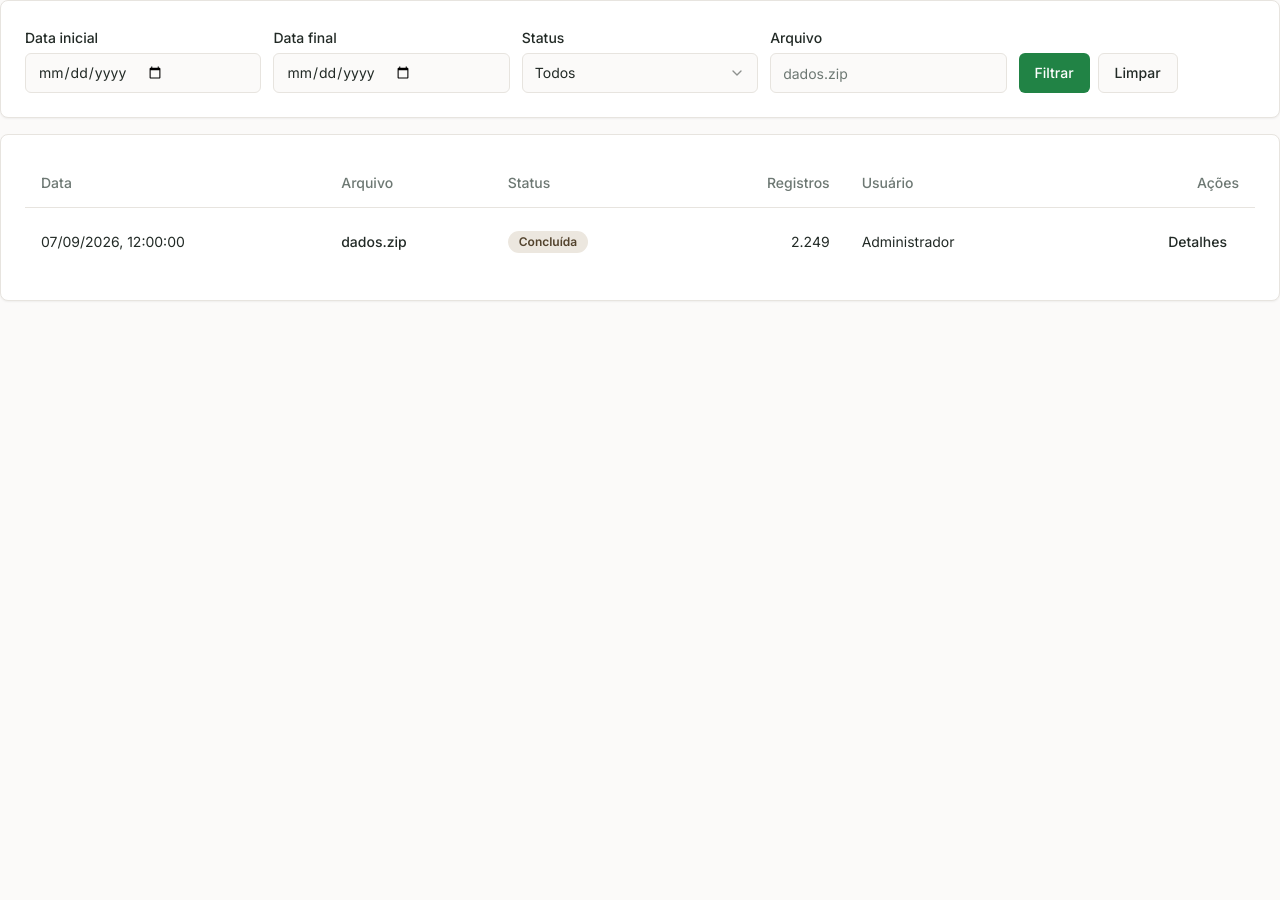
Test: LegacyImportHistory › lista importações e abre os detalhes
Expected: the text "dados.zip" is shown, x1=325 y1=207 x2=492 y2=276
Expected: the text "Administrador" is shown, x1=846 y1=207 x2=1059 y2=276
Step 1. Click the button "Detalhes" → (1198, 242), box x1=1156 y1=224 x2=1239 y2=260
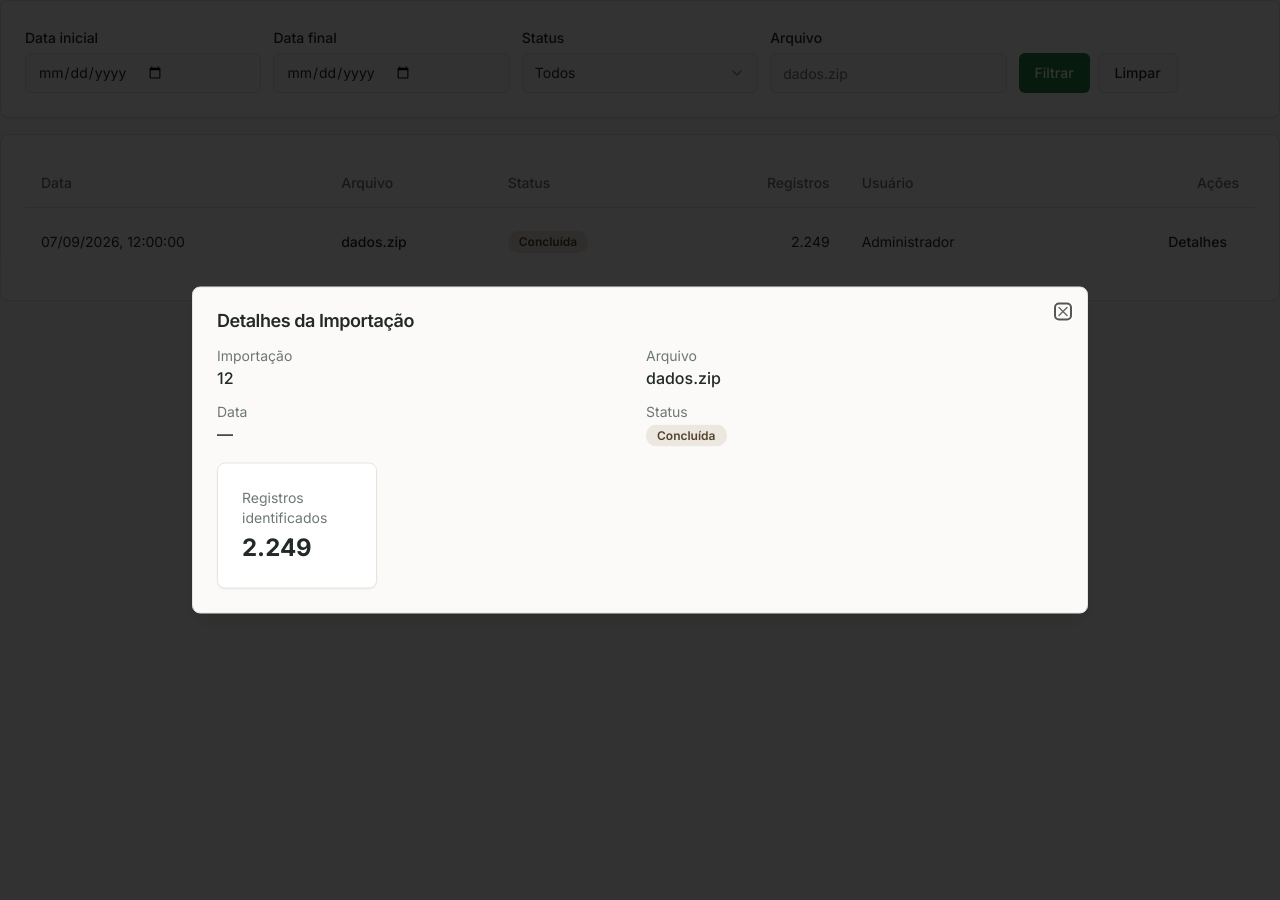
Expected: the heading "Detalhes da Importação" is shown, x1=217 y1=310 x2=414 y2=330
